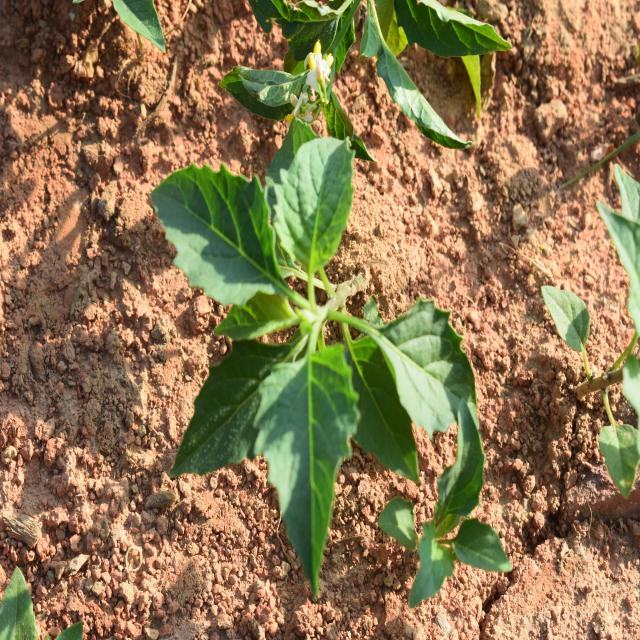Black_nightshade: (162, 129, 470, 563)
